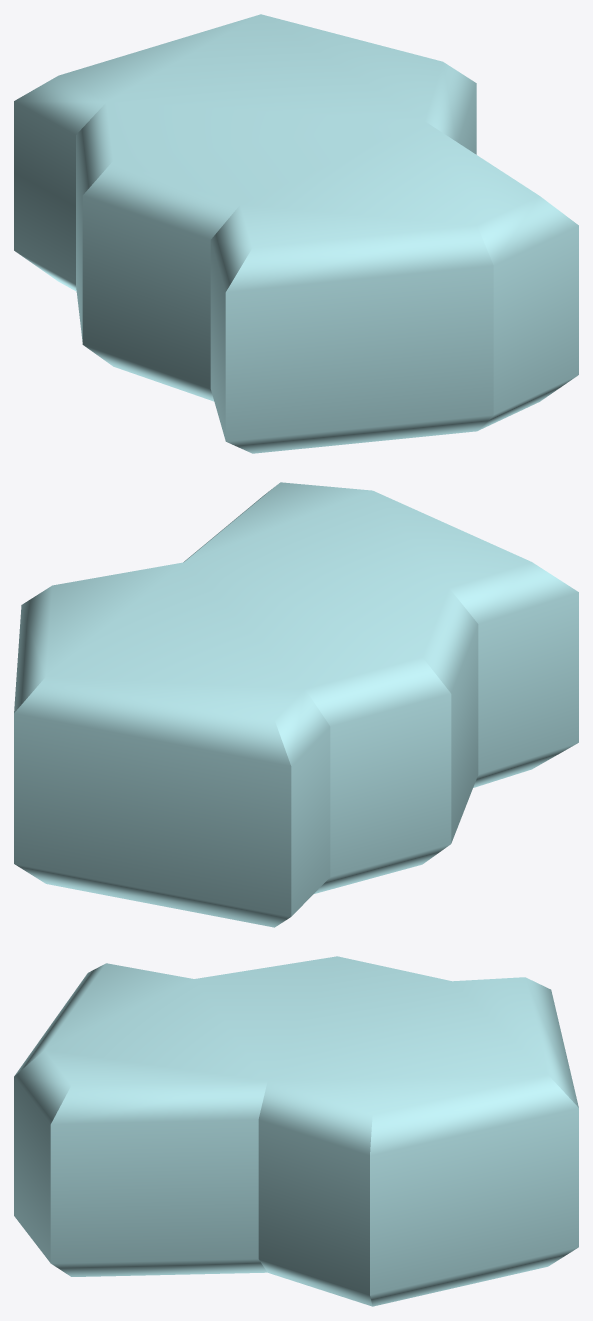
Rendered from ice_floe_small_002.fbx.
The picture shows the model from 3 angles, top to bottom: view 1: azimuth 30°, elevation 25°; view 2: azimuth 150°, elevation 25°; view 3: azimuth 270°, elevation 25°; orthographic projection. The views are drawn at different scales.
Visible parts, largest first — view 1: ice_floe_small_002; view 2: ice_floe_small_002; view 3: ice_floe_small_002.
Part boxes in pixels (x1,y1,x2,y2): ice_floe_small_002: (14, 14, 578, 453); ice_floe_small_002: (14, 482, 578, 927); ice_floe_small_002: (14, 956, 578, 1306).
Size of the model in its own units: 145 by 186 by 69.62.
